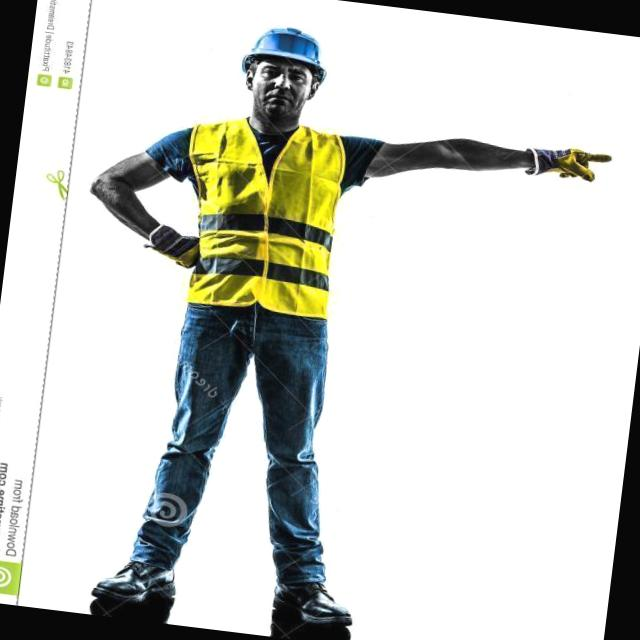boots: (262, 552, 371, 640), (78, 542, 192, 622)
gloves: (522, 137, 615, 189), (141, 222, 199, 271)
vest: (169, 105, 366, 338)
